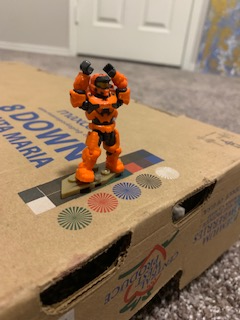spartan: (68, 59, 131, 186)
up: (67, 58, 132, 123)
